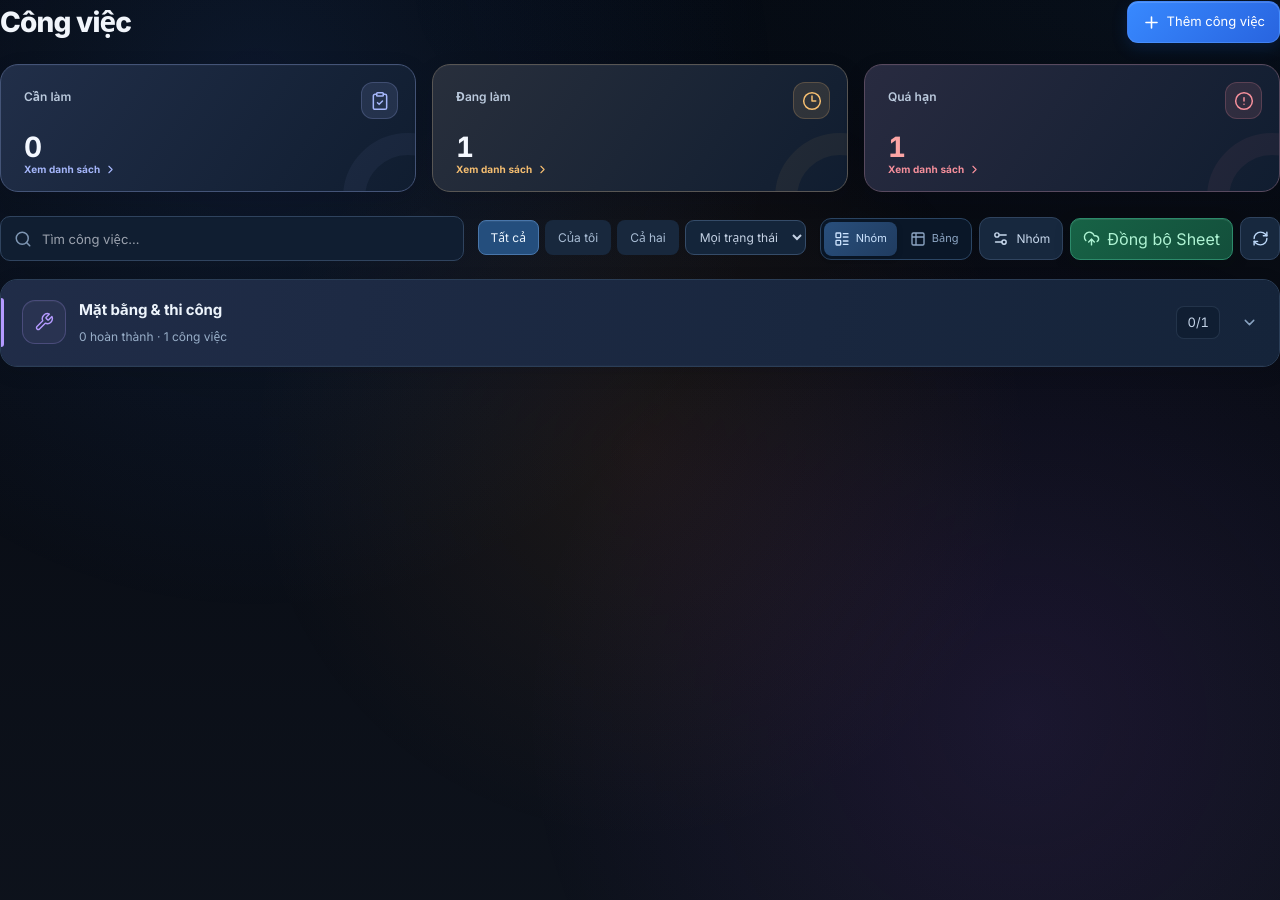
Scenario: Checklist and Budget interactions › opens dashboard counts as a flat quick list while groups stay collapsed
What coordinates should you click on to do the following:
click the button with aria-label "Xem đang làm (1)"
I would click on:
 (812, 100)
Its box is x1=432 y1=64 x2=848 y2=192.
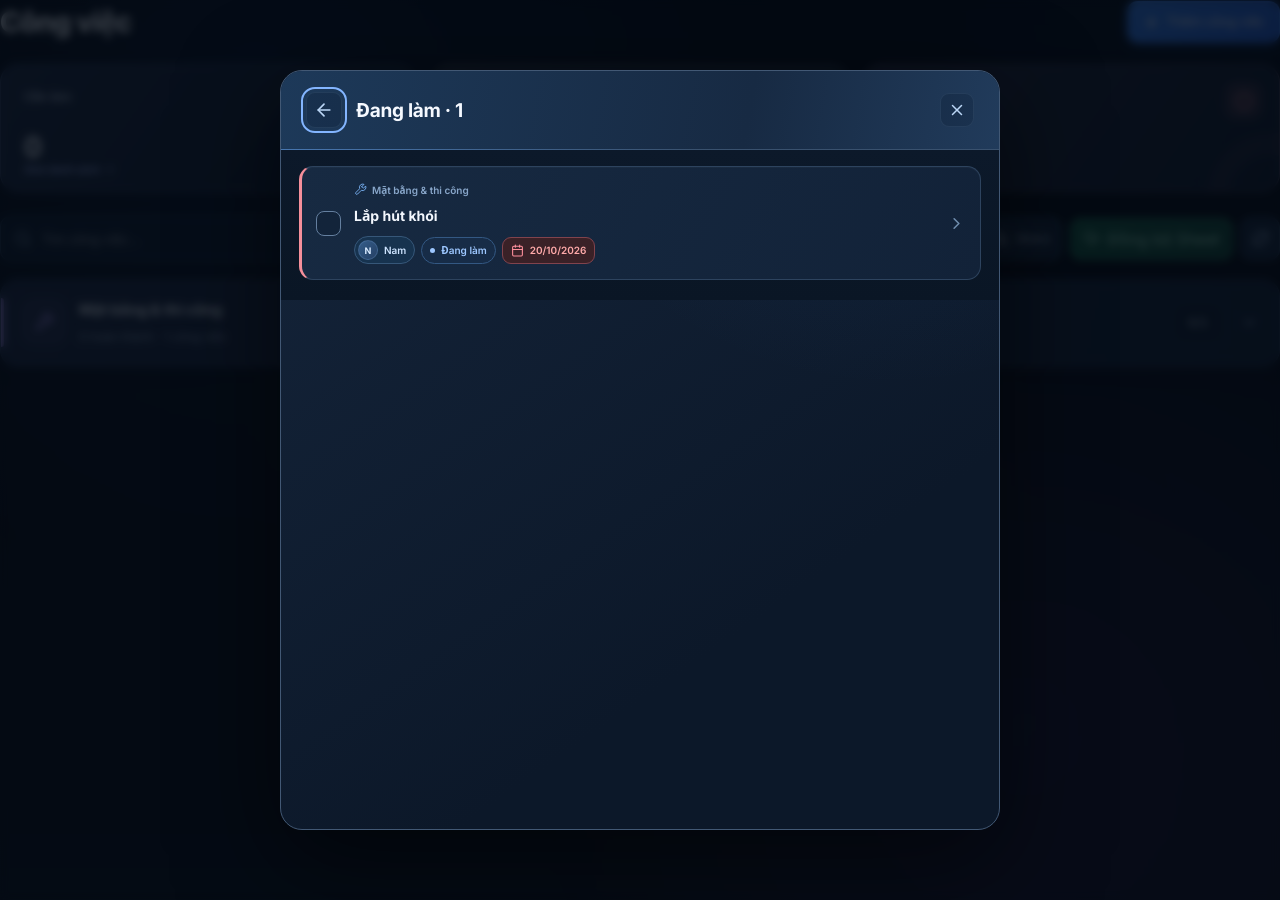
Result: the text "Mặt bằng & thi công" is shown at x1=354 y1=182 x2=469 y2=196
What coordinates should you click on to do the following:
click the button with aria-label "Mở nhanh Lắp hút khói"
I would click on:
 (420, 190)
Its box is x1=299 y1=166 x2=981 y2=280.
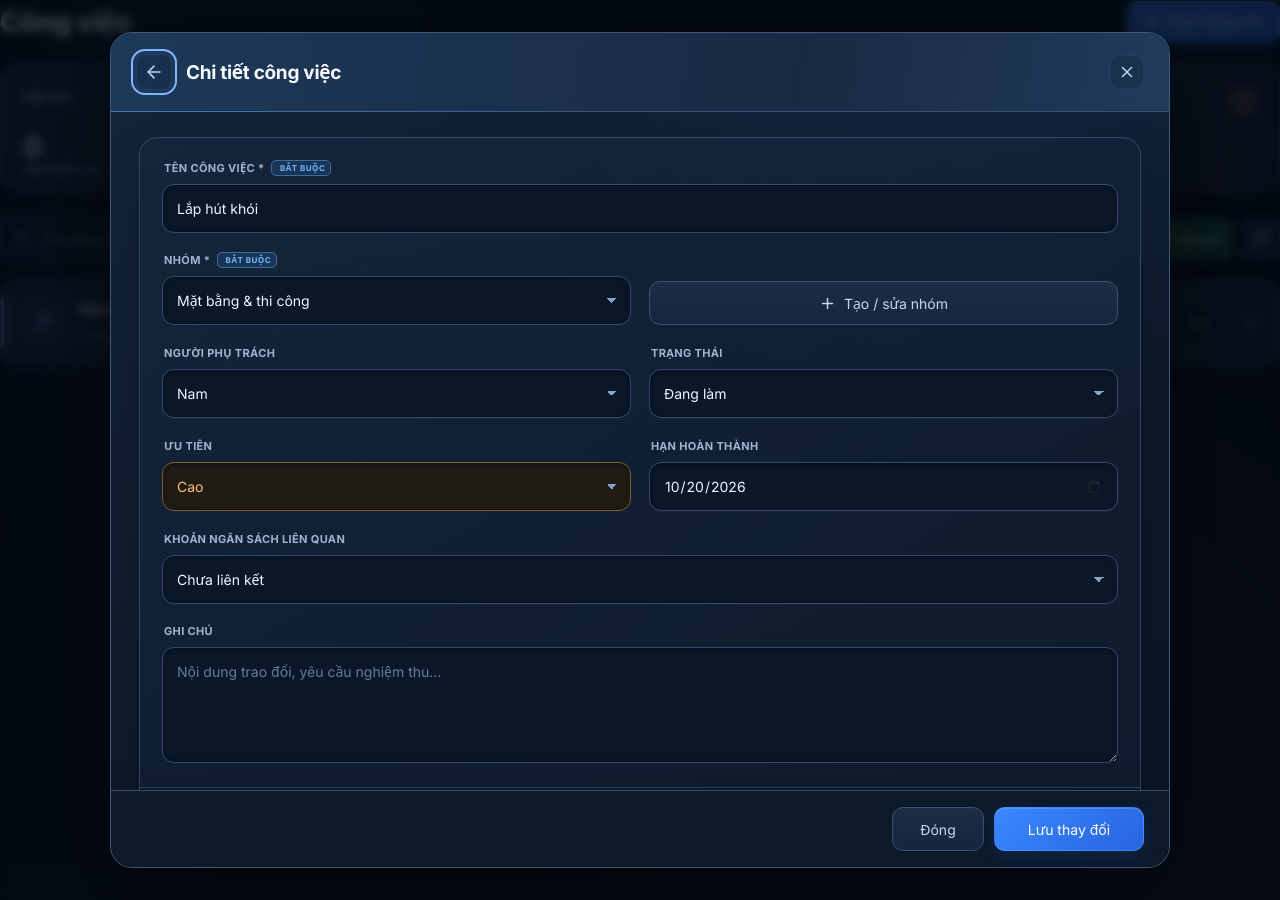
Result: the dialog "Chi tiết công việc" is shown
